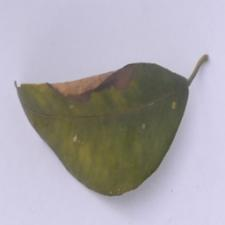Black: (47, 61, 139, 112)
